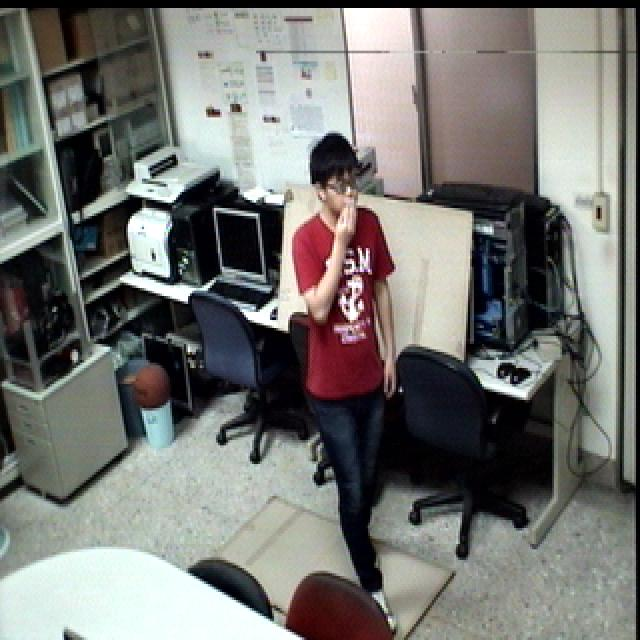stand: (273, 127, 416, 640)
